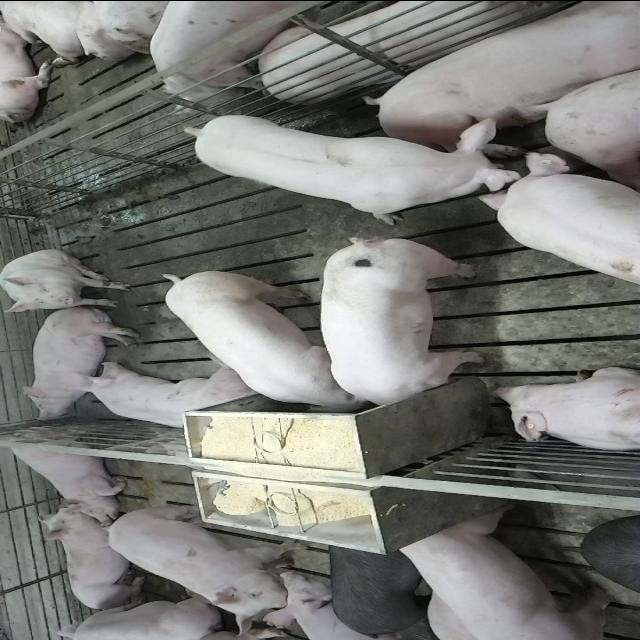Feeding: (160, 264, 366, 412), (318, 242, 484, 416)
Lateral_lying: (370, 4, 640, 160), (18, 305, 142, 420)
Sitting: (1, 425, 132, 515), (2, 248, 134, 312)
Standing: (186, 108, 534, 220), (392, 512, 618, 638), (110, 504, 318, 624), (481, 148, 640, 282), (156, 0, 350, 104), (323, 542, 443, 638)
Sternal_lying: (490, 366, 640, 454), (65, 367, 257, 432), (38, 506, 152, 612)
